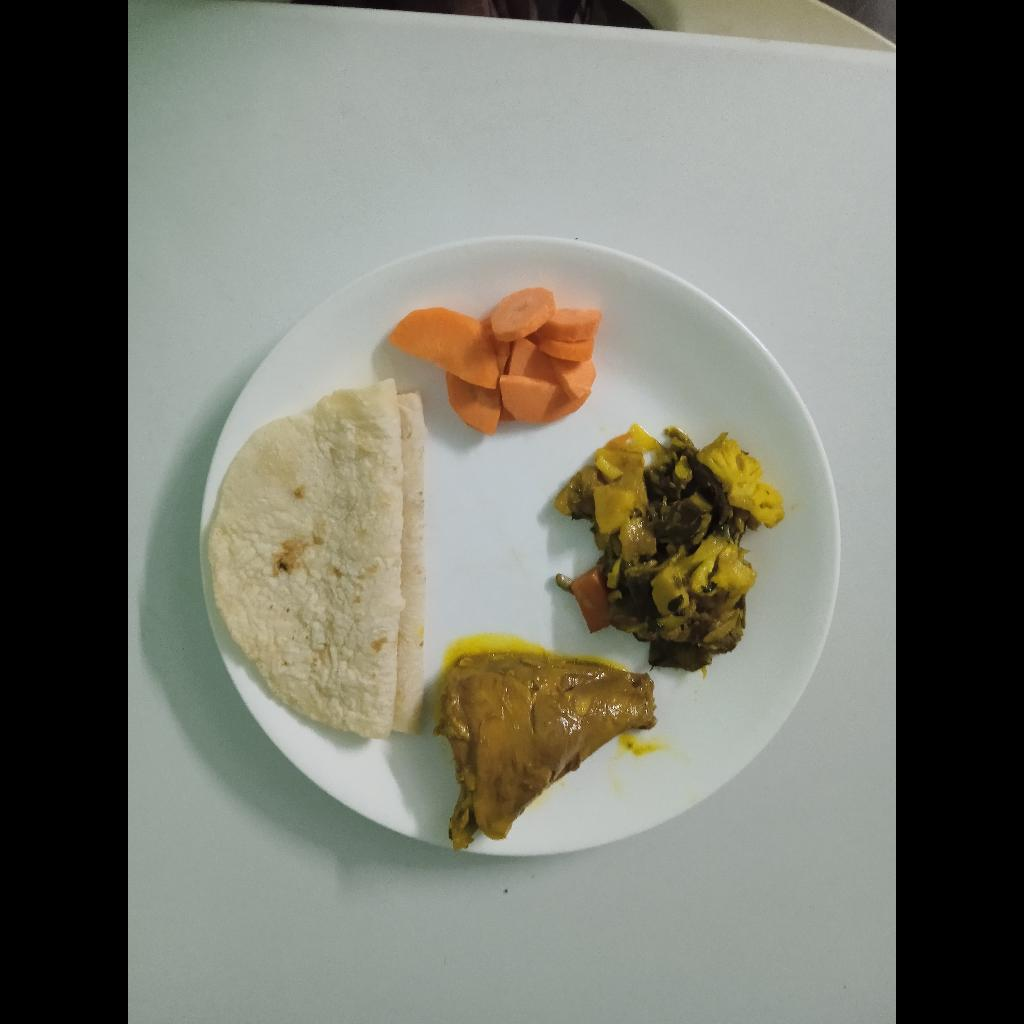chicken: (435, 651, 658, 851)
ruti: (207, 378, 428, 741), (388, 287, 602, 438)
vegetable: (556, 424, 785, 672)
